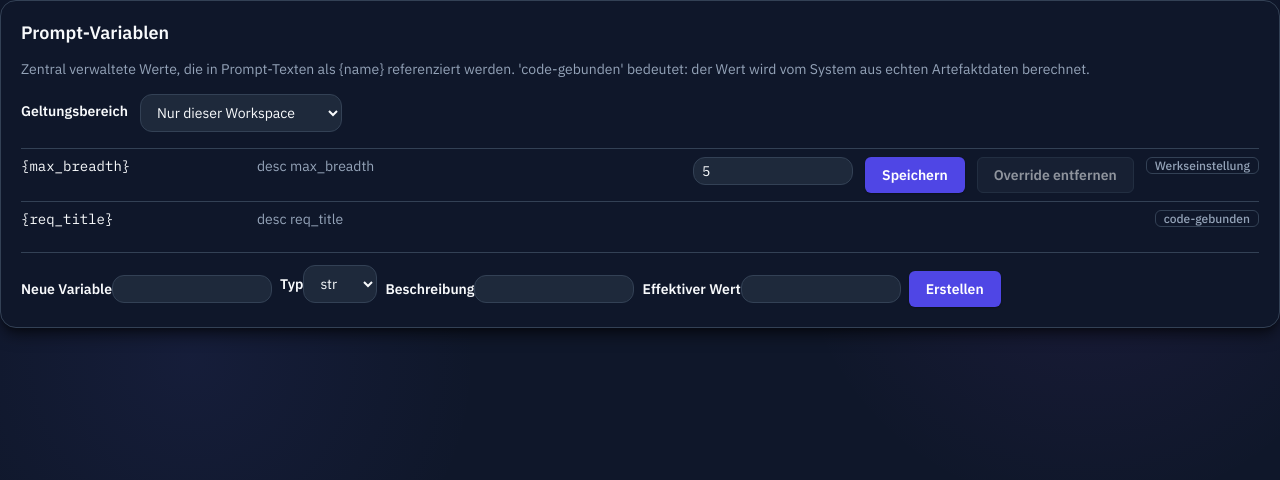
Test case: PromptVariablesSection (spec §5) › saves a config value as a workspace override
Replace the text in the field with test id "prompt-variable-max_breadth-input" with "2" at (773, 171), box [693,157,853,185]
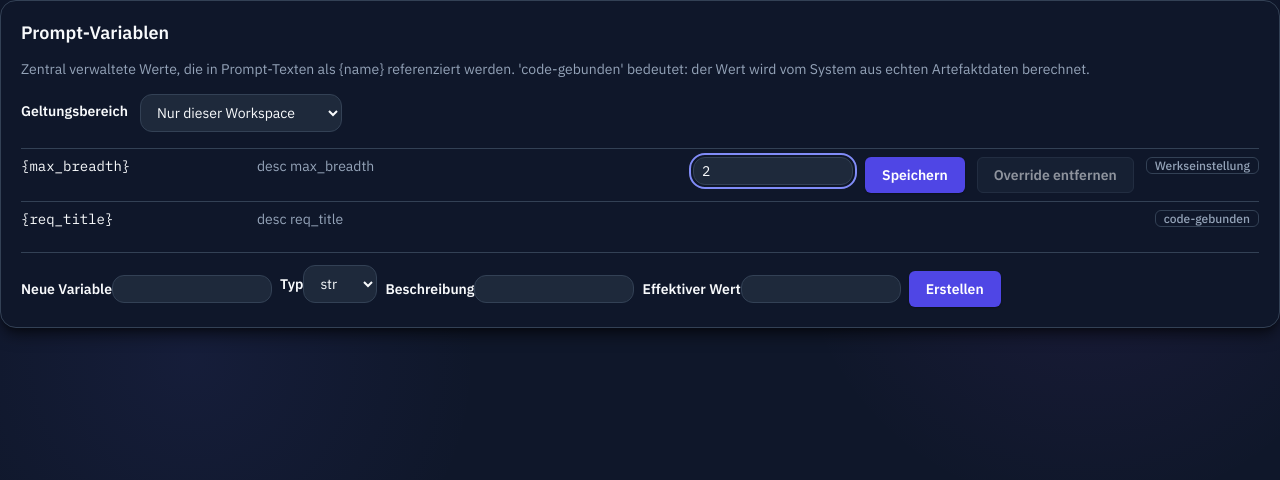
Click the button with test id "prompt-variable-max_breadth-save" at (915, 175), box [865,157,965,193]
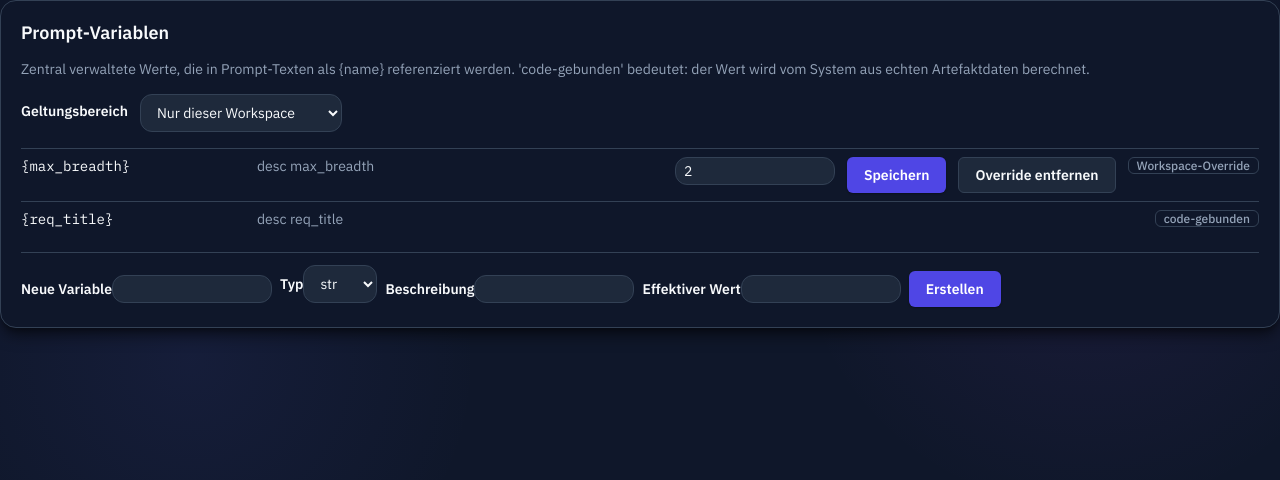
Expected: the text with test id "prompt-variable-max_breadth-origin" reads "Workspace-Override", [1136,158,1250,173]
